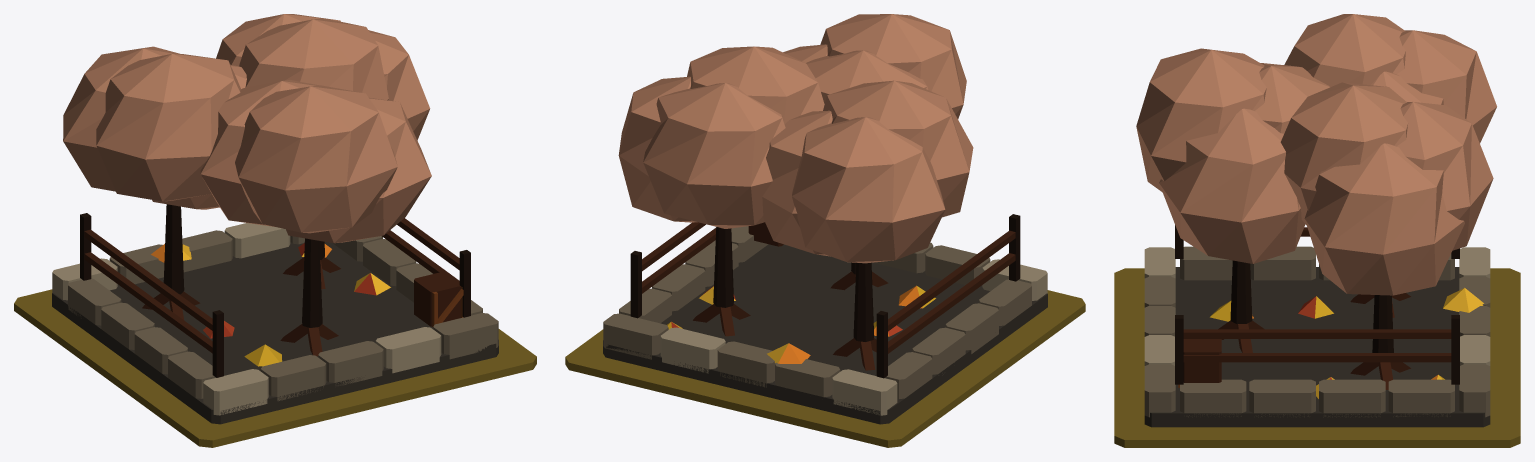
File: frostgrove_t5.glb
3 views of the same model, side by side, from view 1: azimuth 30°, elevation 25°; view 2: azimuth 150°, elevation 25°; view 3: azimuth 270°, elevation 25° (orthographic). The views are drawn at different scales.
Parts seen in each view (by area): view 1: MMR | frostgrove | T05 Architecture.001, MMR | frostgrove | Tier 05 Ground.001, MMR | frostgrove | T05 Autumn Dressing.001; view 2: MMR | frostgrove | T05 Architecture.001, MMR | frostgrove | Tier 05 Ground.001, MMR | frostgrove | T05 Autumn Dressing.001; view 3: MMR | frostgrove | T05 Architecture.001, MMR | frostgrove | Tier 05 Ground.001, MMR | frostgrove | T05 Autumn Dressing.001.
Part boxes in pixels (x1,y1,x2,y2): MMR | frostgrove | T05 Architecture.001: (52,14,498,424); MMR | frostgrove | Tier 05 Ground.001: (14,289,536,447); MMR | frostgrove | T05 Autumn Dressing.001: (151,243,390,366); MMR | frostgrove | T05 Architecture.001: (603,14,1047,424); MMR | frostgrove | Tier 05 Ground.001: (565,290,1085,447); MMR | frostgrove | T05 Autumn Dressing.001: (667,285,935,363); MMR | frostgrove | T05 Architecture.001: (1136,14,1496,427); MMR | frostgrove | Tier 05 Ground.001: (1114,268,1520,447); MMR | frostgrove | T05 Autumn Dressing.001: (1210,288,1483,398).
Size of the model in its own units: 2.38 by 1.94 by 2.35.
1 material, 1 textured.
